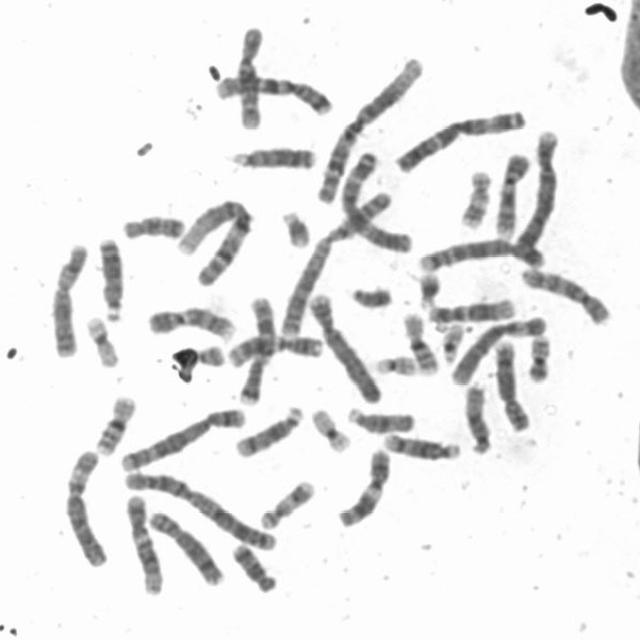A1: (310, 50, 427, 205), (169, 193, 257, 288)
A2: (276, 183, 397, 339), (117, 464, 279, 553)
A3: (390, 103, 529, 175), (334, 144, 414, 254)
B4: (304, 285, 386, 405), (510, 123, 562, 261)
B5: (116, 402, 249, 472), (413, 231, 550, 274)
C10: (516, 260, 614, 327), (232, 19, 267, 131)
C11: (331, 441, 393, 530), (221, 329, 326, 369)
C12: (120, 488, 168, 597), (422, 292, 518, 325)
C6: (446, 311, 548, 387), (60, 444, 113, 570)
C7: (210, 68, 336, 118), (234, 289, 278, 406)
C8: (143, 504, 227, 588), (489, 335, 532, 433)
C9: (142, 300, 240, 342), (490, 147, 532, 238)
D13: (226, 139, 320, 173), (92, 232, 126, 323)
D14: (229, 400, 307, 460), (377, 427, 463, 462)
D15: (459, 377, 495, 456), (343, 402, 417, 435)
E16: (90, 389, 140, 457), (398, 306, 442, 377)
E17: (256, 474, 318, 530), (455, 163, 494, 230)
E18: (226, 537, 280, 594), (117, 208, 188, 242)
F19: (80, 309, 122, 370), (306, 402, 354, 454)
F20: (523, 329, 554, 384), (176, 344, 222, 372)
G21: (277, 204, 314, 250), (412, 265, 443, 310)
G22: (436, 318, 466, 364), (371, 348, 418, 376)
X: (46, 237, 91, 360)
Y: (346, 280, 395, 310)
